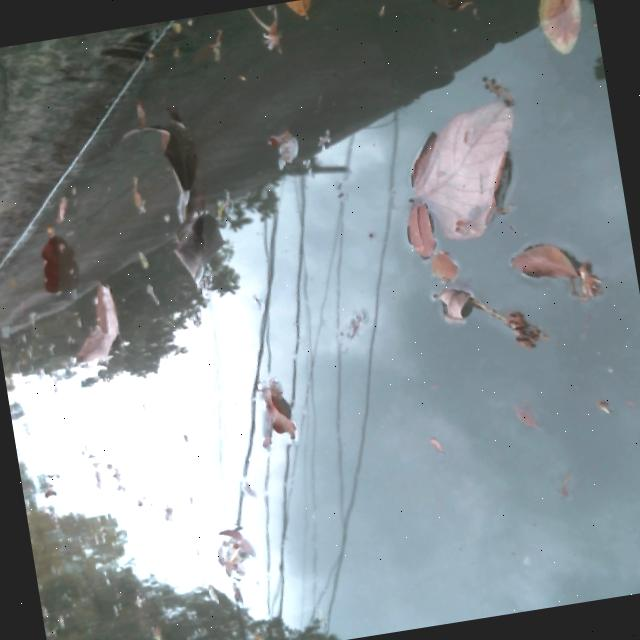Big-leaf: (406, 79, 542, 245), (51, 264, 146, 379), (140, 99, 210, 226), (162, 213, 243, 305), (27, 222, 76, 305)
Small-leaf: (199, 500, 271, 589), (473, 294, 542, 360), (502, 236, 579, 292), (527, 0, 594, 59), (387, 191, 440, 254), (237, 2, 290, 57), (253, 377, 299, 439), (429, 266, 479, 322), (568, 251, 613, 306), (268, 120, 312, 169), (118, 174, 158, 213), (425, 246, 468, 282), (198, 22, 231, 65), (422, 423, 452, 465), (37, 466, 71, 503), (44, 195, 80, 227), (316, 117, 345, 155), (510, 399, 542, 431), (286, 0, 327, 22), (417, 0, 465, 17), (132, 240, 158, 270), (147, 277, 169, 312)
